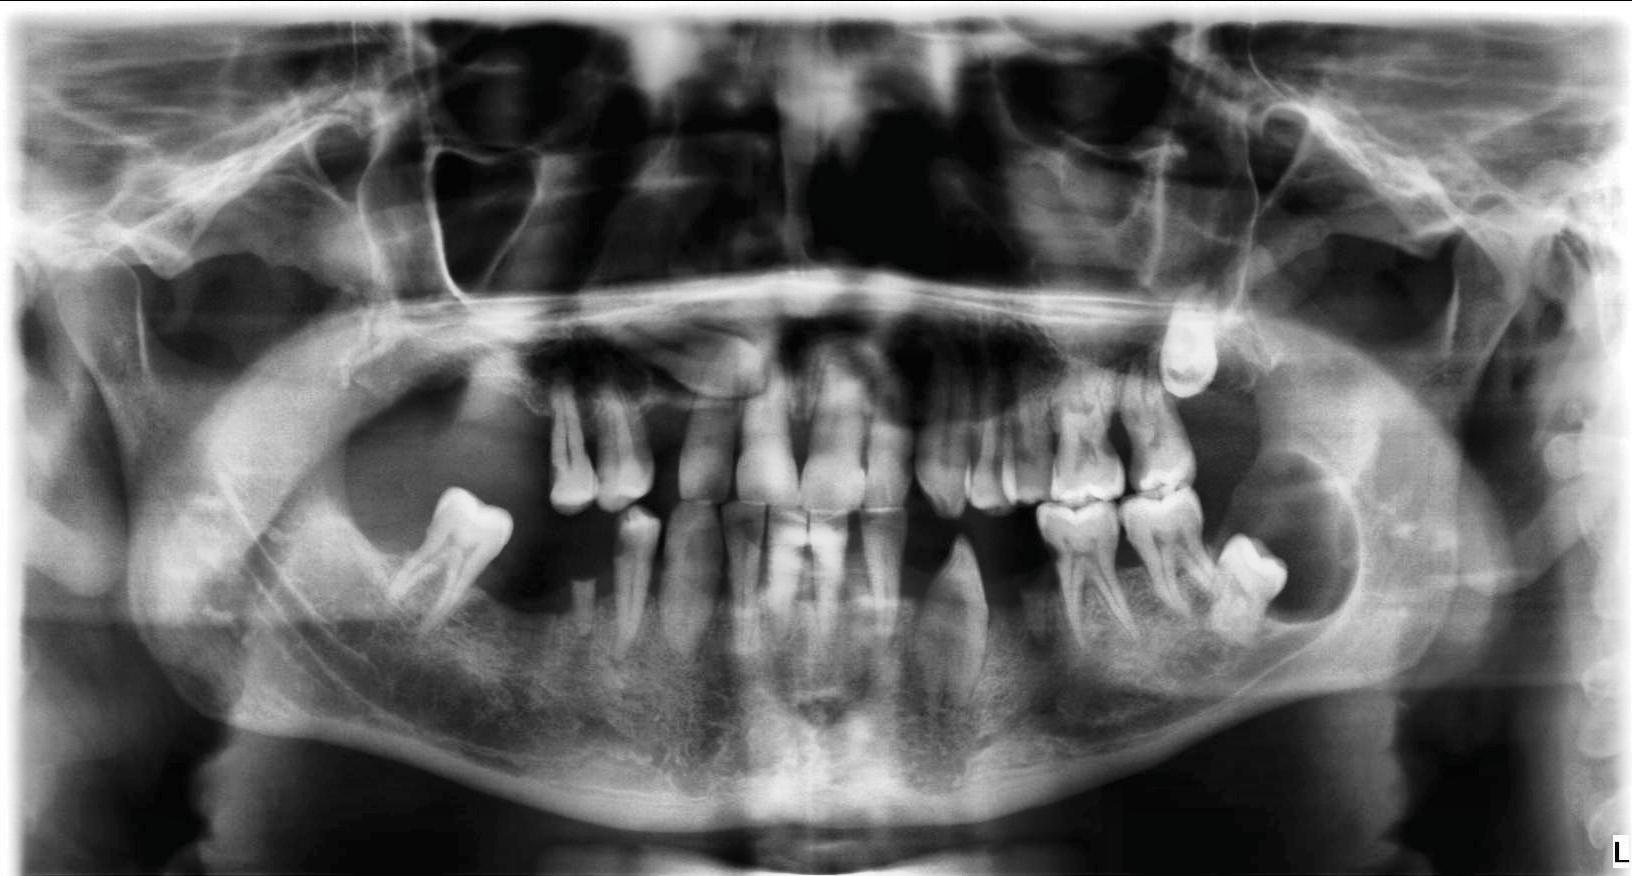dentigeroz: (1208, 449, 1363, 624)
